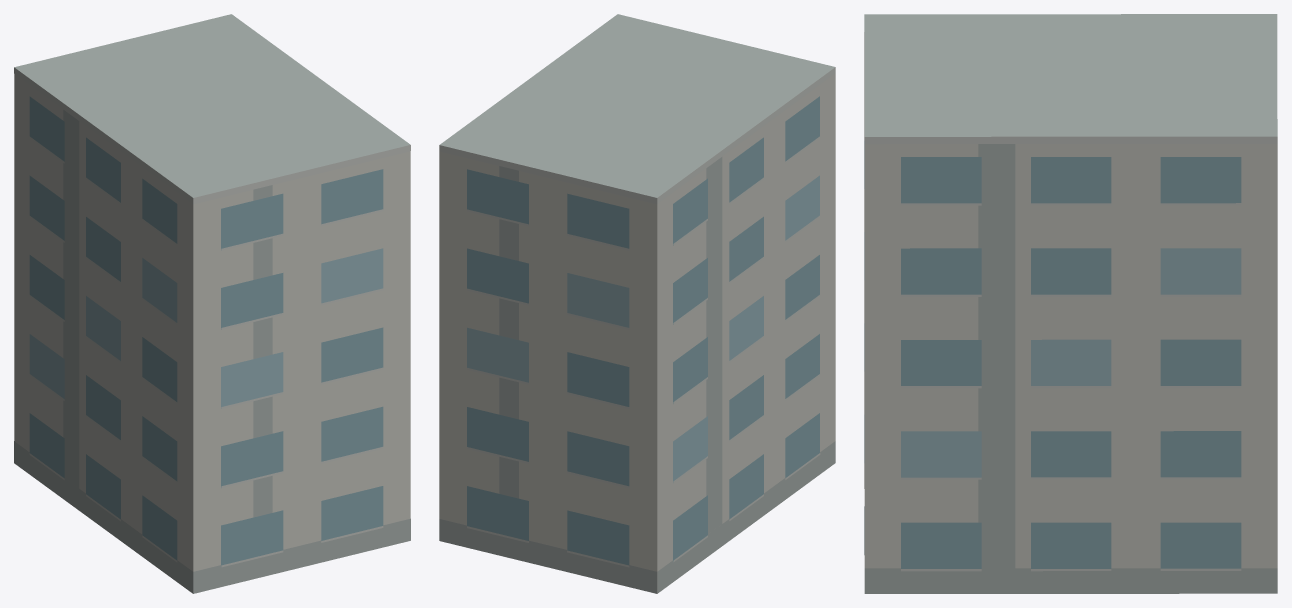
File: survey-upis-32725346.glb
3 renders of one model, left to right at view 1: azimuth 30°, elevation 25°; view 2: azimuth 150°, elevation 25°; view 3: azimuth 270°, elevation 25°, orthographic. The views are drawn at different scales.
Visible parts, largest first — view 1: survey-upis-32725346.tmp; view 2: survey-upis-32725346.tmp; view 3: survey-upis-32725346.tmp.
Boxes of the visible parts, x1,y1,x2,y2 form: survey-upis-32725346.tmp: [14, 14, 410, 593]; survey-upis-32725346.tmp: [439, 14, 835, 593]; survey-upis-32725346.tmp: [864, 14, 1277, 593].
Bounding box in the file's own units: 8.81 × 15.25 × 12.52.
